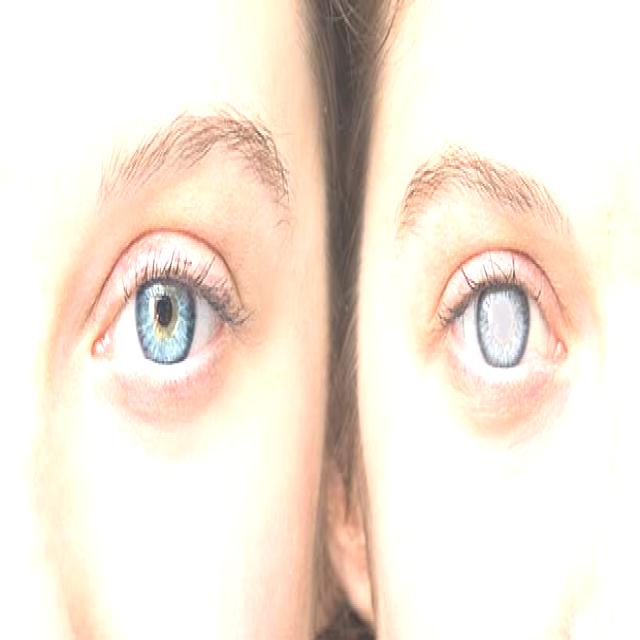Cataract: (74, 209, 257, 429), (427, 243, 573, 417)
